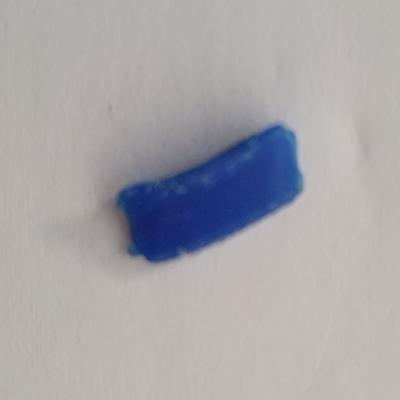plastic: (112, 121, 309, 264)
